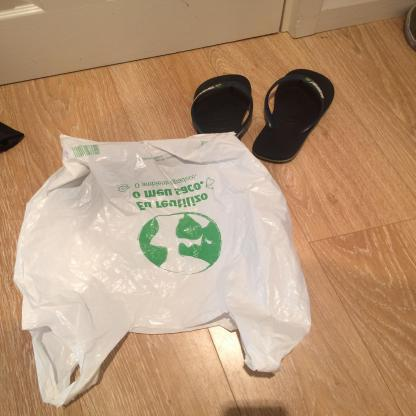plastik: (13, 132, 313, 408)
